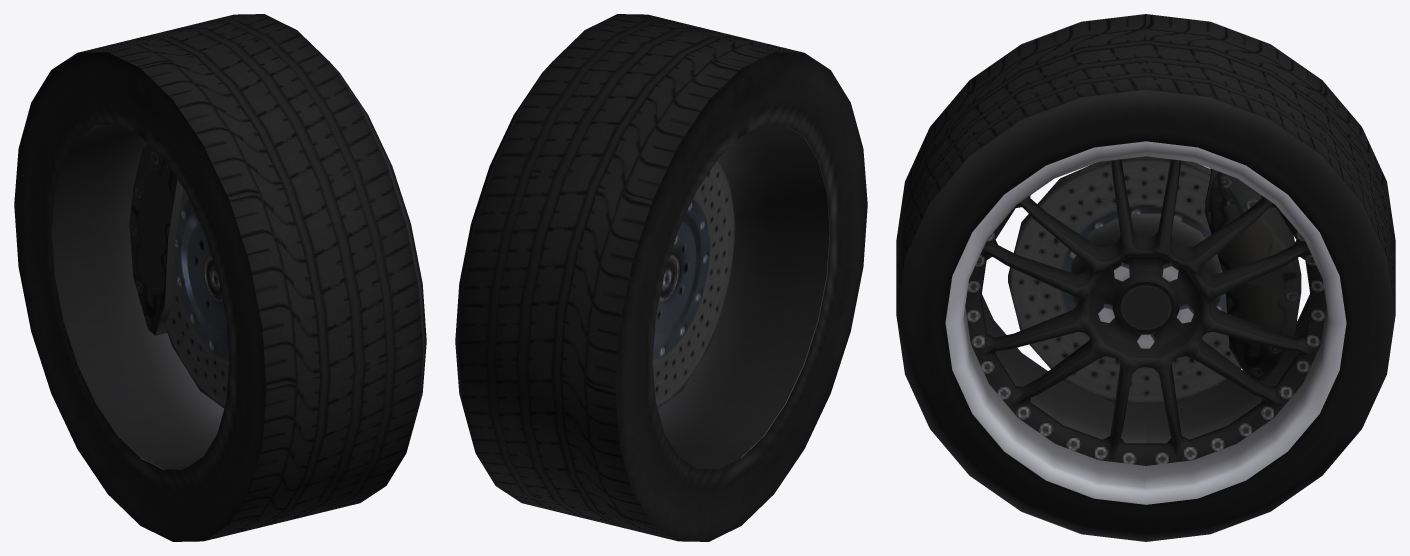
The model's file is WP20_wheelpack.glb.
The picture shows the model from 3 angles, left to right: view 1: azimuth 30°, elevation 25°; view 2: azimuth 150°, elevation 25°; view 3: azimuth 270°, elevation 25°; orthographic projection.
Parts seen in each view (by area): view 1: MOD_ND_WP20_tyre, MOD_ND_WP20_rim, MOD_ND_WP20_brakes; view 2: MOD_ND_WP20_tyre, MOD_ND_WP20_rim, MOD_ND_WP20_brakes; view 3: MOD_ND_WP20_tyre, MOD_ND_WP20_rim, MOD_ND_WP20_brakes.
Boxes of the visible parts, x1=… form: MOD_ND_WP20_tyre: x1=14, y1=14, x2=426, y2=541; MOD_ND_WP20_rim: x1=51, y1=124, x2=223, y2=469; MOD_ND_WP20_brakes: x1=129, y1=144, x2=229, y2=408; MOD_ND_WP20_tyre: x1=455, y1=14, x2=867, y2=541; MOD_ND_WP20_rim: x1=658, y1=124, x2=830, y2=469; MOD_ND_WP20_brakes: x1=652, y1=160, x2=736, y2=408; MOD_ND_WP20_tyre: x1=896, y1=14, x2=1395, y2=541; MOD_ND_WP20_rim: x1=945, y1=141, x2=1346, y2=504; MOD_ND_WP20_brakes: x1=1008, y1=156, x2=1301, y2=403.
Bounding box in the file's own units: 0.2521 × 0.6414 × 0.6414.
2 materials, 2 textured.
